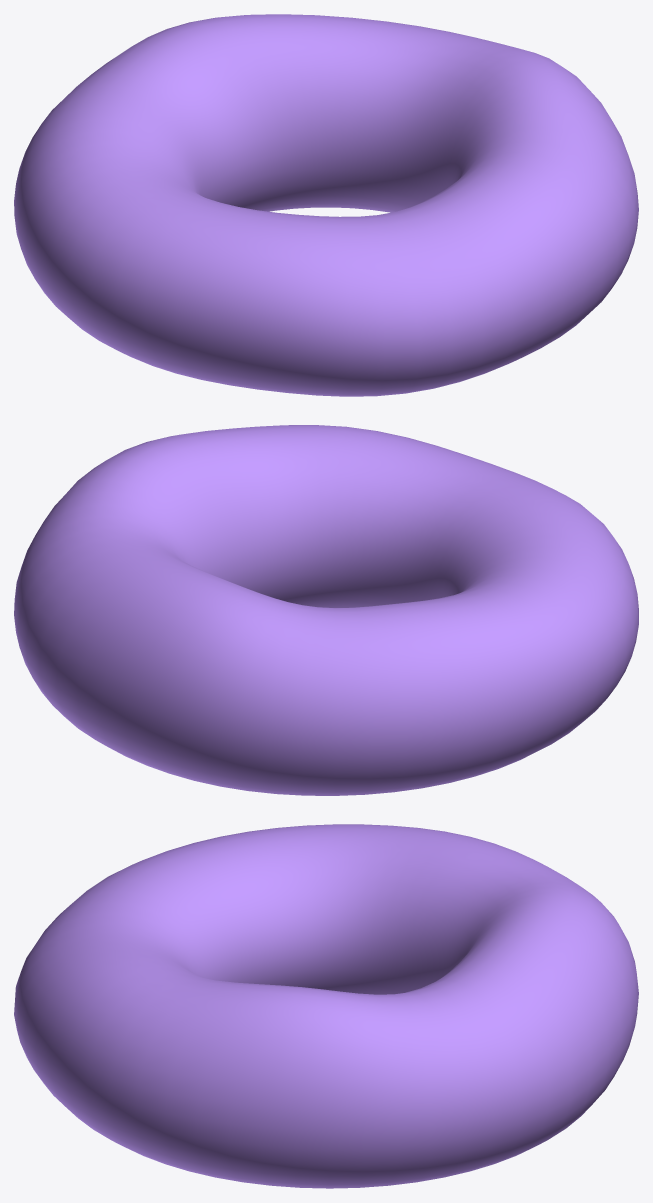
The picture shows the model from 3 angles, top to bottom: view 1: azimuth 30°, elevation 25°; view 2: azimuth 150°, elevation 25°; view 3: azimuth 270°, elevation 25°; orthographic projection.
Parts seen in each view (by area): view 1: Torus; view 2: Torus; view 3: Torus.
Part boxes in pixels (x1=…): Torus: x1=14, y1=14, x2=638, y2=396; Torus: x1=14, y1=425, x2=638, y2=795; Torus: x1=14, y1=824, x2=638, y2=1188.
Bounding box in the file's own units: 1421 × 474 × 1427.
